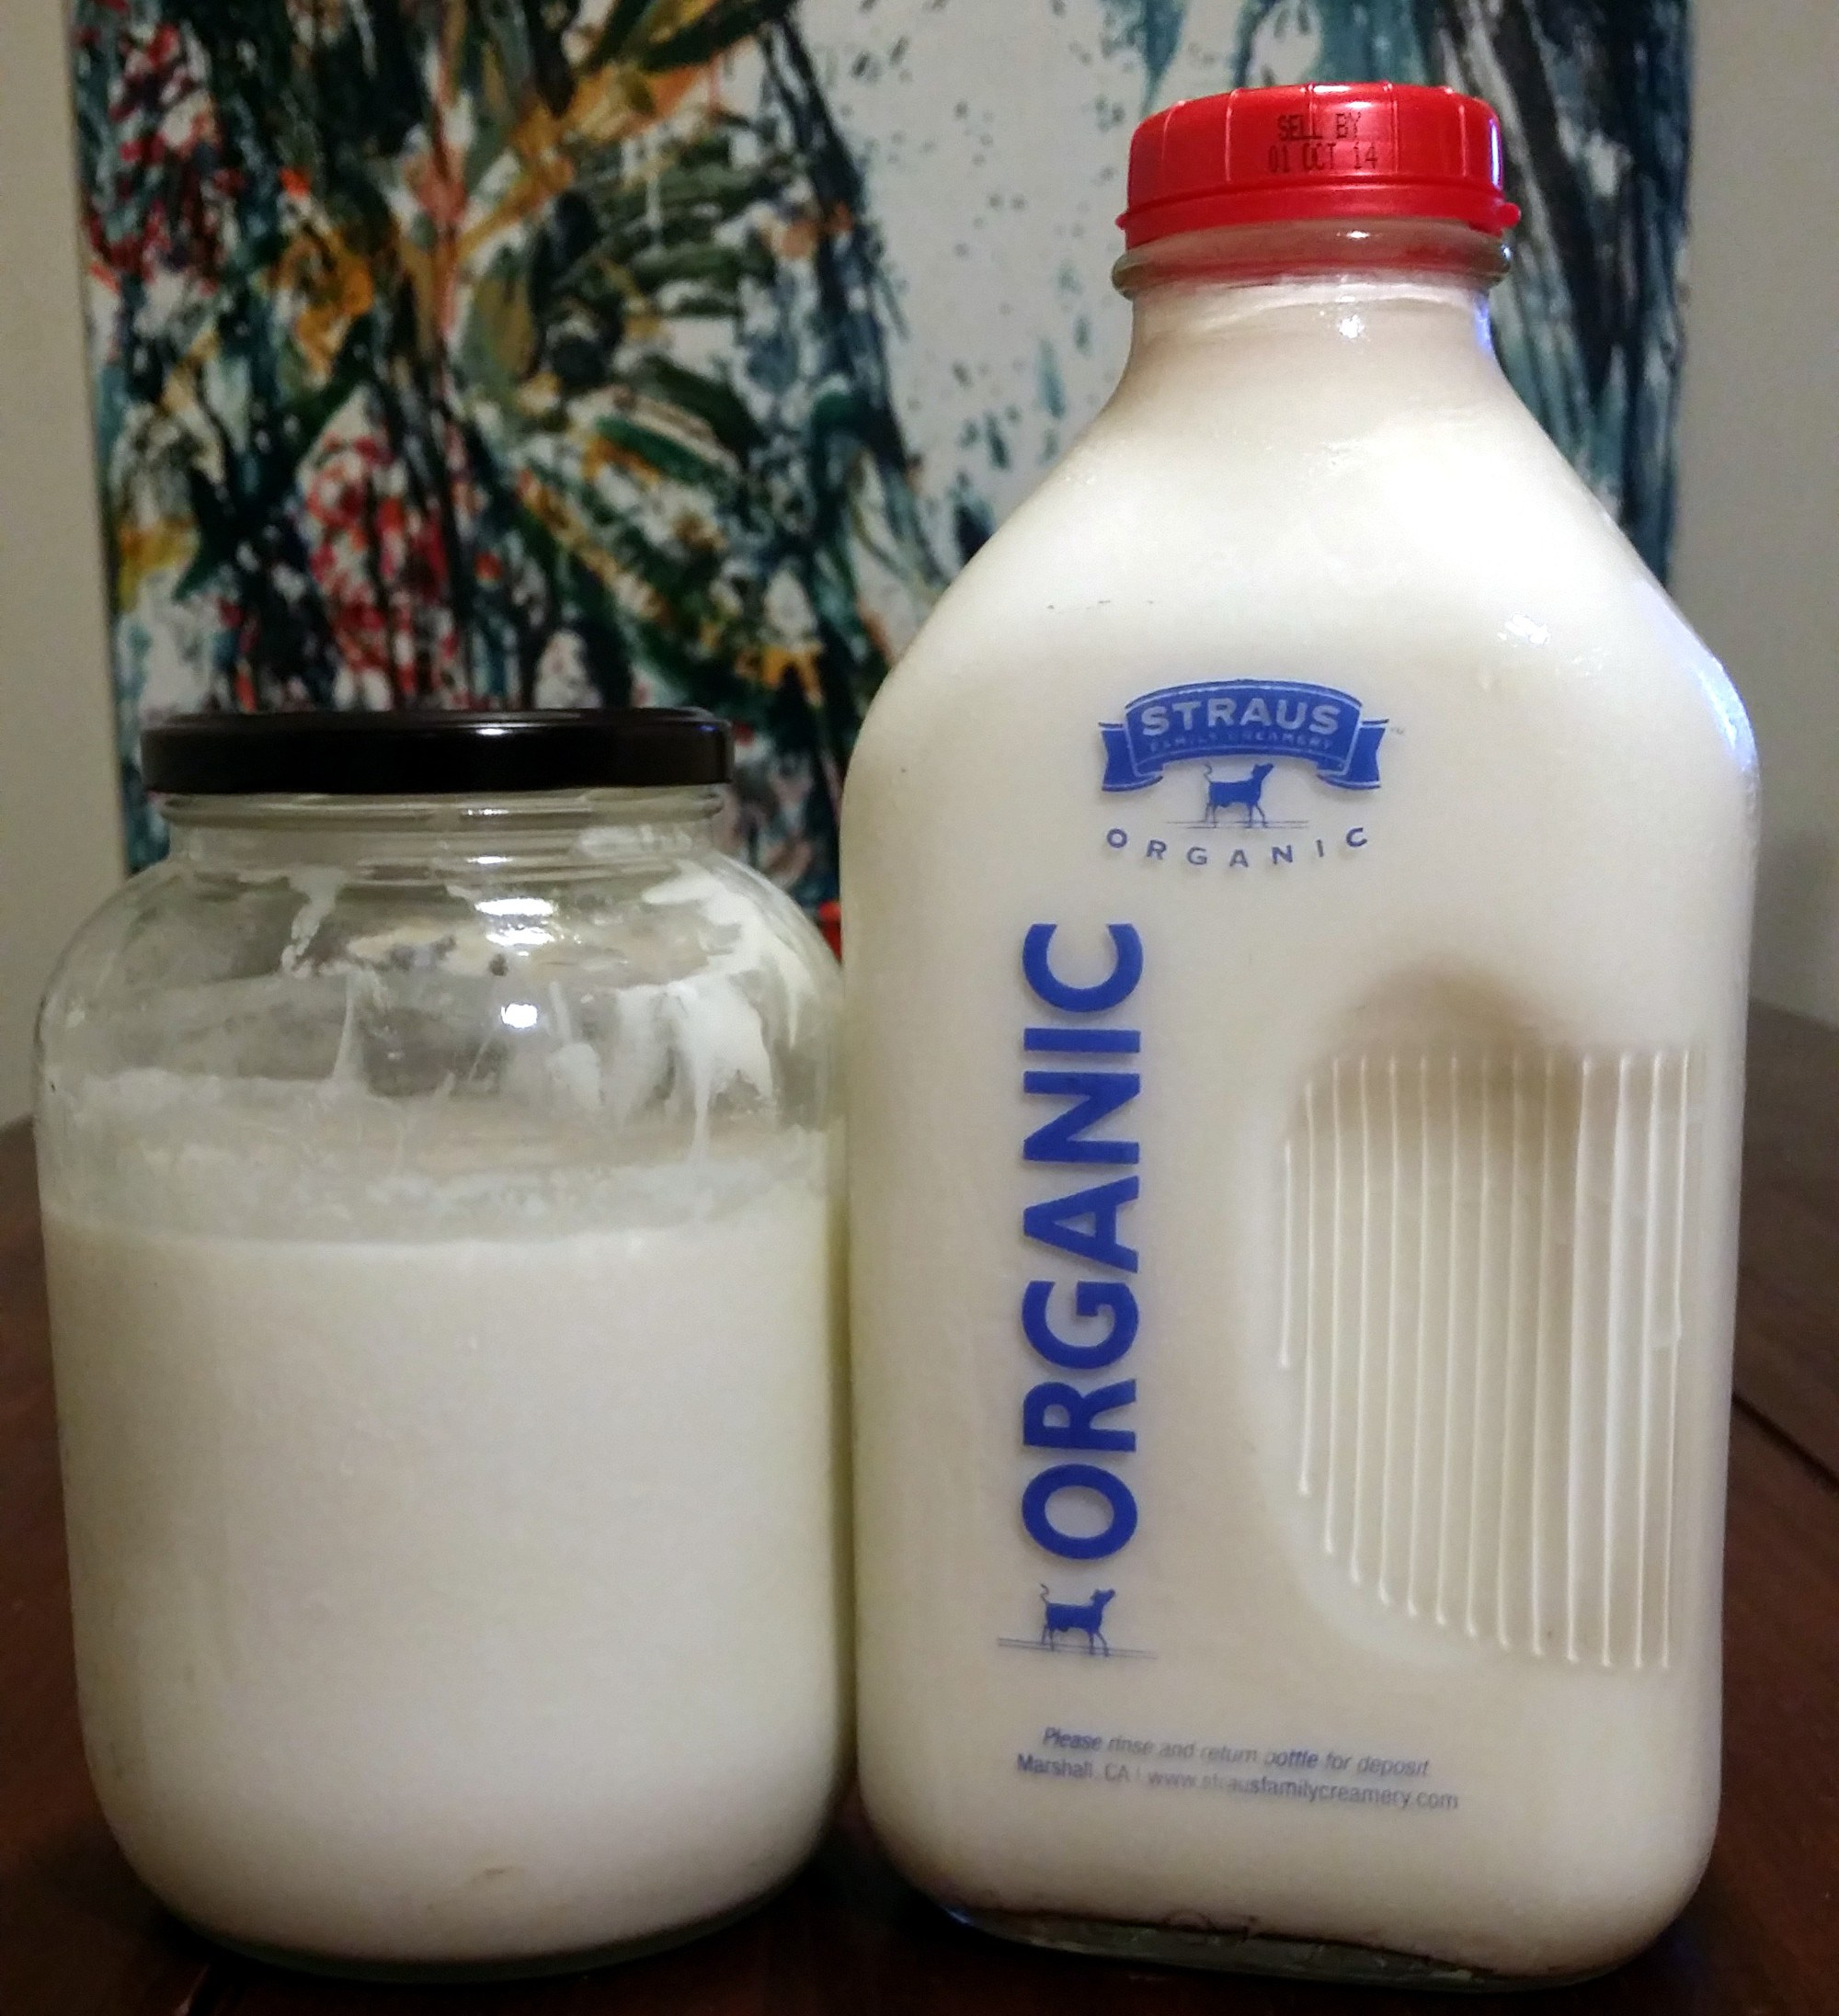milk: (855, 112, 1776, 1948)
